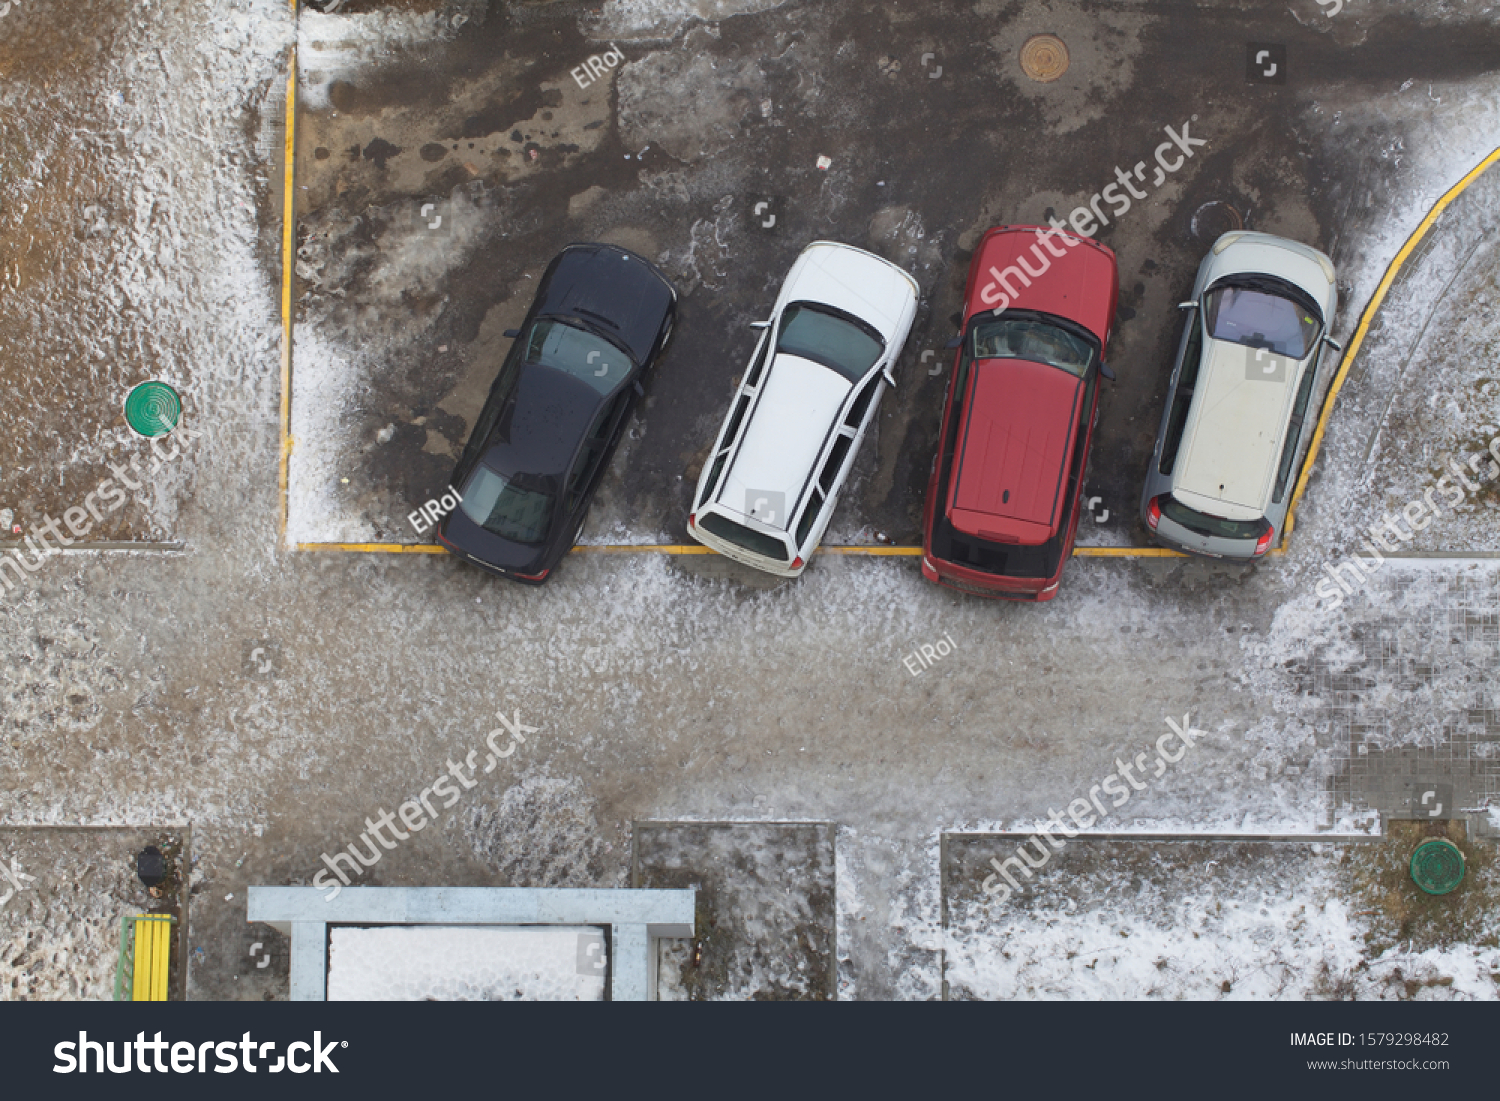Car: (675, 228, 924, 588), (917, 218, 1124, 604), (1133, 224, 1342, 565)
